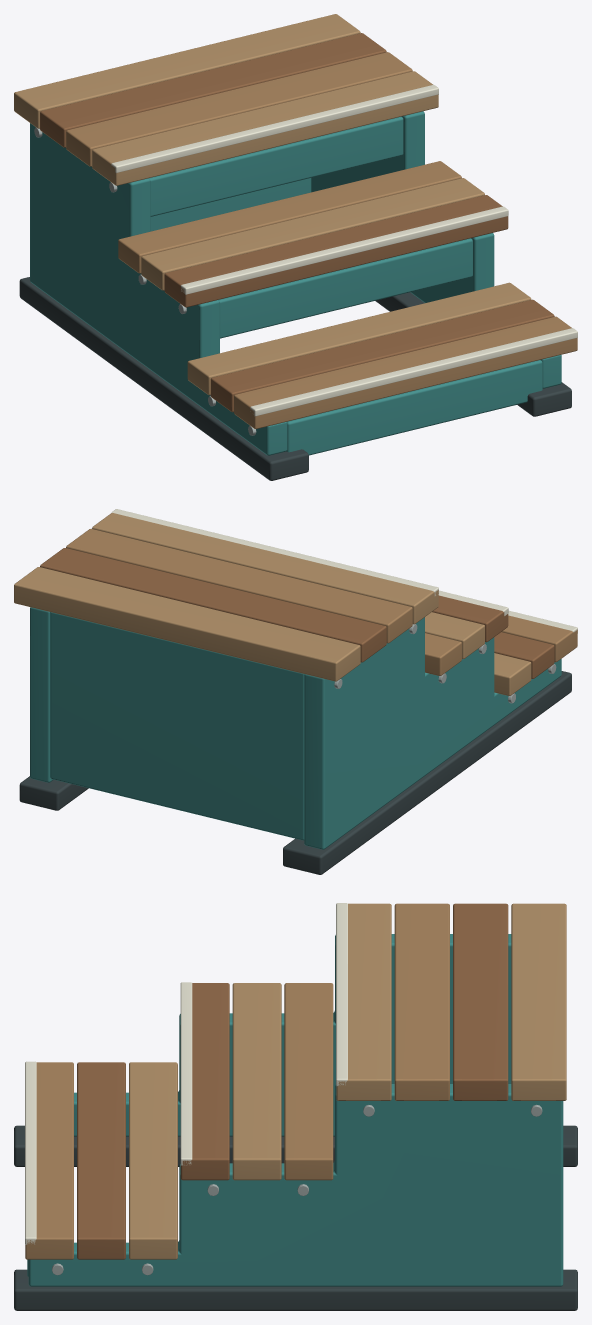
Rendered from wsc-plan-008-horse-mounting-block-wip.glb.
3 views of the same model, one above another, from view 1: azimuth 30°, elevation 25°; view 2: azimuth 150°, elevation 25°; view 3: azimuth 270°, elevation 25° (orthographic). The views are drawn at different scales.
Parts seen in each view (by area): view 1: Continuous stepped side cheek, Tread 3 plank 1, Tread riser.002, Tread riser.001, Tread 2 plank 1, Tread 1 plank 1, Tread riser, Tread 3 plank 3, Tread 3 plank 4, Tread 3 plank 2, Tread 1 plank 2, Tread 1 plank 3 (+9 smaller); view 2: Rear closure, Continuous stepped side cheek, Tread 3 plank 4, Tread 3 plank 2, Tread 3 plank 3, Tread 3 plank 1, Ground skid, Continuous stepped side cheek.001, Cream leading nosing.002, Tread 1 plank 2, Tread 2 plank 2, Tread 1 plank 1 (+4 smaller); view 3: Continuous stepped side cheek.001, Ground skid.001, Tread 3 plank 3, Tread 3 plank 2, Tread 3 plank 4, Tread 2 plank 2, Tread 2 plank 3, Tread 1 plank 2, Tread 1 plank 3, Tread 3 plank 1, Tread 2 plank 1, Tread 1 plank 1 (+5 smaller).
Boxes of the visible parts, <box> form: Continuous stepped side cheek: <box>30,123,287,455</box>; Tread 3 plank 1: <box>92,71,438,185</box>; Tread riser.002: <box>149,116,403,216</box>; Tread riser.001: <box>218,238,472,338</box>; Tread 2 plank 1: <box>164,195,508,307</box>; Tread 1 plank 1: <box>234,316,577,428</box>; Tread riser: <box>286,360,542,455</box>; Tread 3 plank 3: <box>40,33,386,147</box>; Tread 3 plank 4: <box>14,14,360,128</box>; Tread 3 plank 2: <box>66,52,412,166</box>; Tread 1 plank 2: <box>210,299,554,412</box>; Tread 1 plank 3: <box>187,282,531,395</box>; Rear closure: <box>50,612,304,840</box>; Continuous stepped side cheek: <box>304,617,561,849</box>; Tread 3 plank 4: <box>14,567,360,681</box>; Tread 3 plank 2: <box>66,528,412,643</box>; Tread 3 plank 3: <box>40,548,386,662</box>; Tread 3 plank 1: <box>92,513,438,624</box>; Ground skid: <box>283,671,571,874</box>; Continuous stepped side cheek.001: <box>30,607,53,782</box>; Cream leading nosing.002: <box>111,509,438,595</box>; Tread 1 plank 2: <box>494,632,554,678</box>; Tread 2 plank 2: <box>425,612,484,658</box>; Tread 1 plank 1: <box>501,615,577,662</box>; Continuous stepped side cheek.001: <box>28,1084,563,1286</box>; Ground skid.001: <box>14,1269,577,1310</box>; Tread 3 plank 3: <box>453,903,508,1100</box>; Tread 3 plank 2: <box>394,903,449,1100</box>; Tread 3 plank 4: <box>511,903,566,1100</box>; Tread 2 plank 2: <box>232,983,281,1180</box>; Tread 2 plank 3: <box>284,983,333,1180</box>; Tread 1 plank 2: <box>77,1062,125,1259</box>; Tread 1 plank 3: <box>129,1062,177,1259</box>; Tread 3 plank 1: <box>336,903,391,1100</box>; Tread 2 plank 1: <box>180,983,229,1180</box>; Tread 1 plank 1: <box>25,1062,73,1259</box>.
Bounding box in the file's own units: 0.86 × 0.541 × 1.16.
